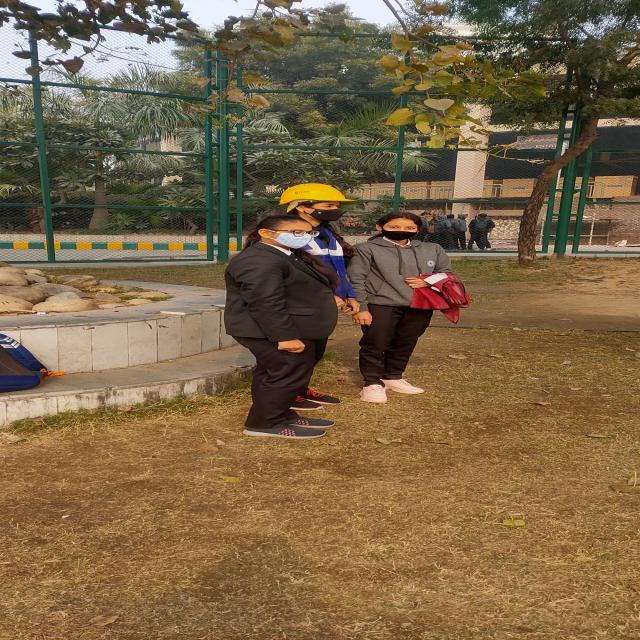unsafe: (223, 206, 340, 430), (346, 212, 460, 390), (466, 208, 498, 252)
